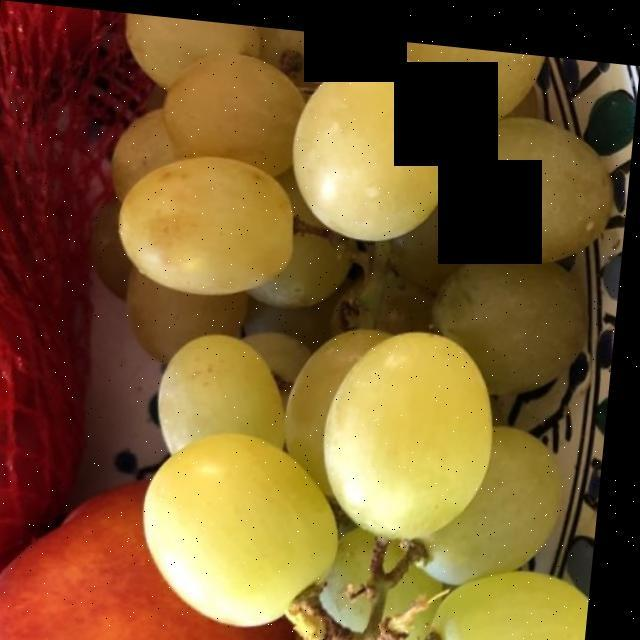grapes: (47, 44, 592, 640)
